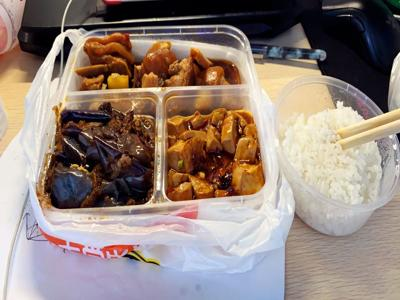df: (168, 101, 262, 202)
jrtd: (79, 34, 232, 85)
rice: (281, 95, 385, 217)
sqz: (62, 102, 154, 206)
